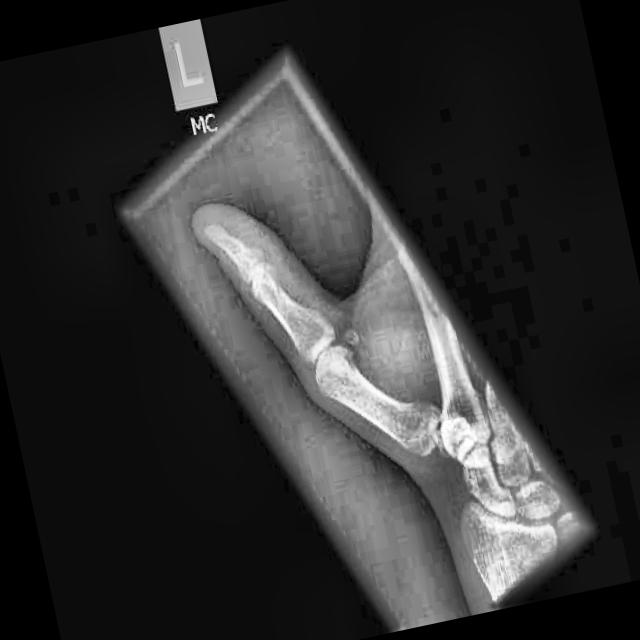fingers positive: (220, 222, 247, 263)
